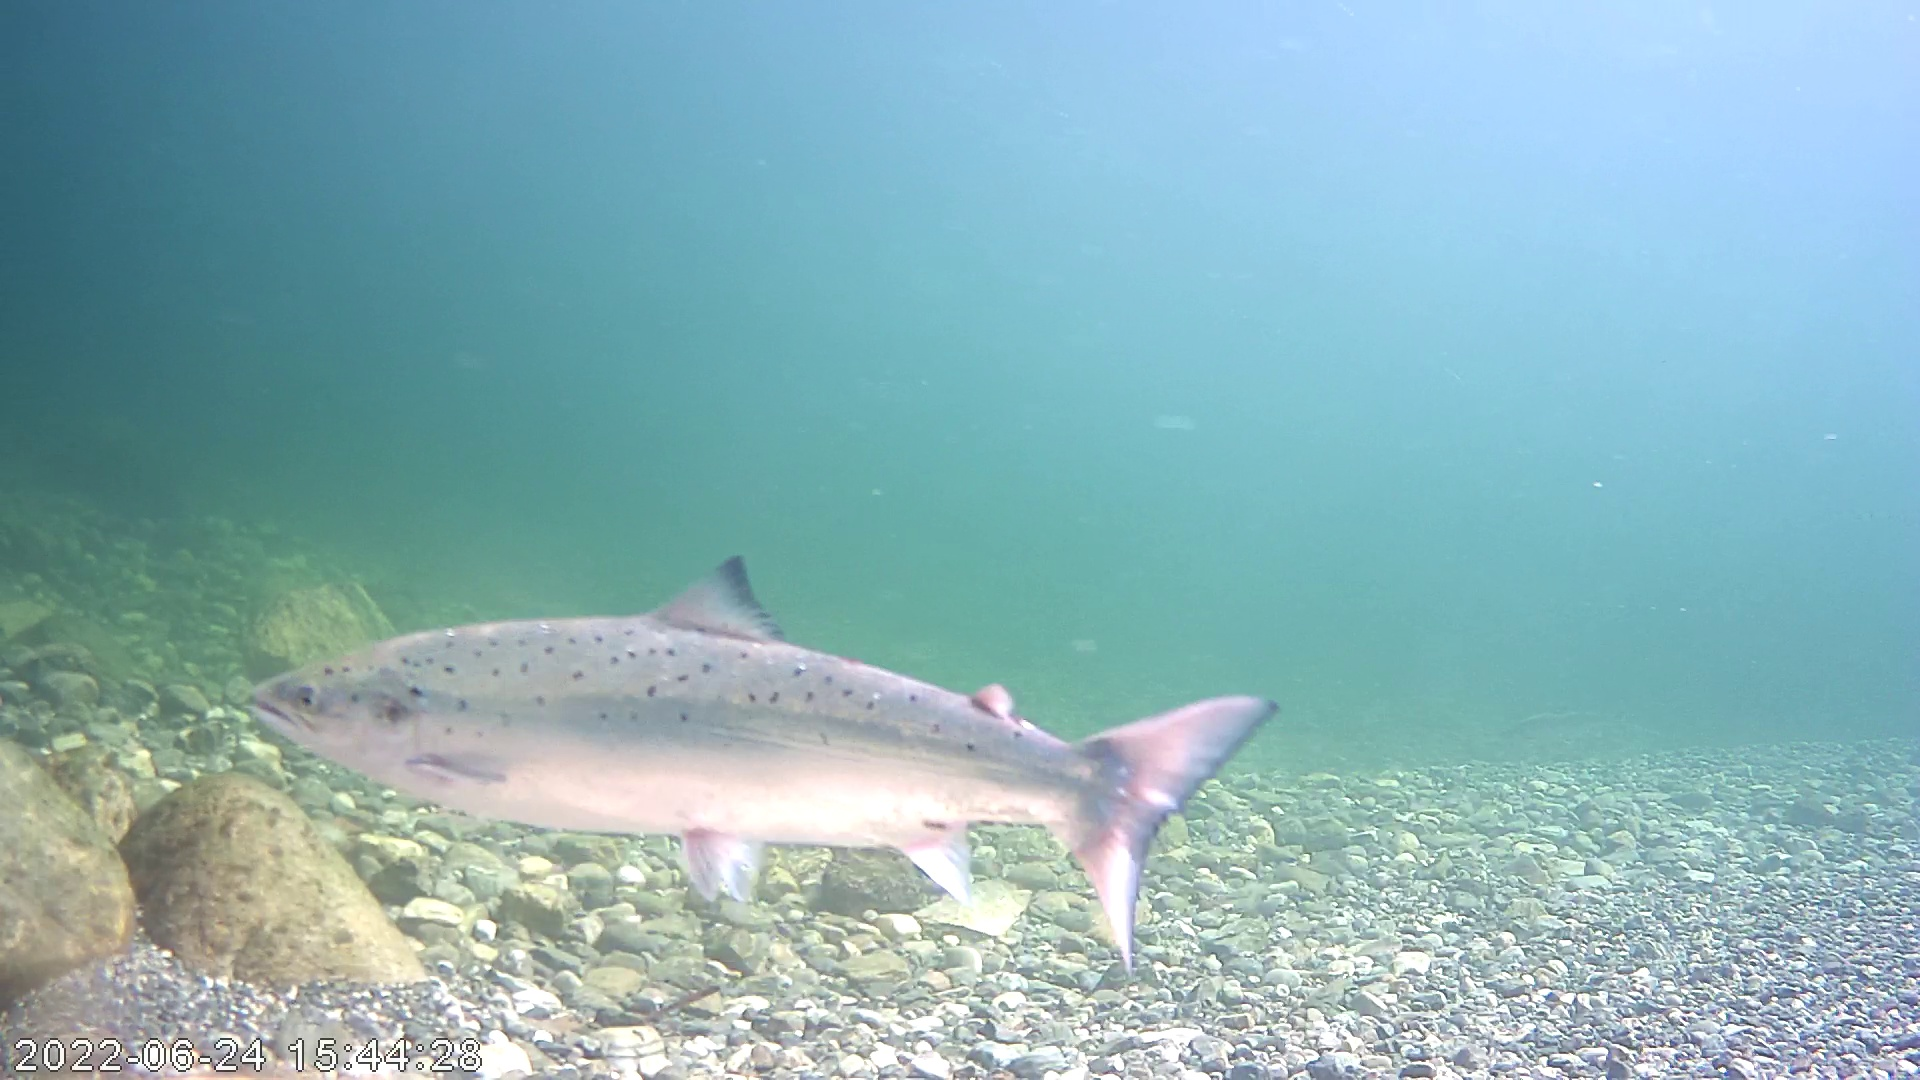salmon: (241, 550, 1279, 977)
